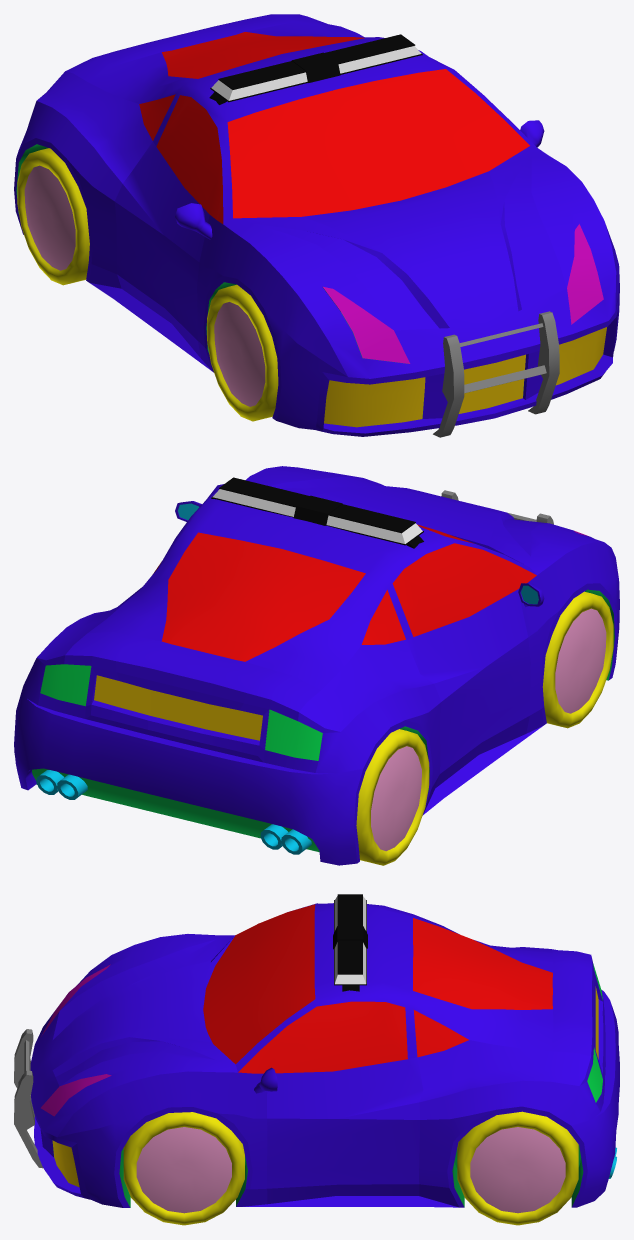
The model's file is 04_AzureusCrimsonPolice_ColorCoded.fbx.
The picture shows the model from 3 angles, top to bottom: view 1: azimuth 30°, elevation 25°; view 2: azimuth 150°, elevation 25°; view 3: azimuth 270°, elevation 25°; orthographic projection. The views are drawn at different scales.
Parts seen in each view (by area): view 1: Body, tireBackR, tireFrontR, police_light, police_ram; view 2: Body, tireBackR, tireFrontR, police_light; view 3: Body, tireBackL, tireFrontL, police_light, police_ram.
Part boxes in pixels (x1=…): Body: x1=14, y1=14, x2=619, y2=436; tireBackR: x1=17, y1=148, x2=89, y2=285; tireFrontR: x1=207, y1=284, x2=278, y2=421; police_light: x1=209, y1=34, x2=422, y2=104; police_ram: x1=433, y1=311, x2=559, y2=437; Body: x1=14, y1=466, x2=619, y2=865; tireBackR: x1=356, y1=729, x2=429, y2=865; tireFrontR: x1=542, y1=591, x2=613, y2=728; police_light: x1=211, y1=477, x2=423, y2=548; Body: x1=30, y1=903, x2=619, y2=1207; tireBackL: x1=457, y1=1111, x2=578, y2=1225; tireFrontL: x1=123, y1=1112, x2=244, y2=1225; police_light: x1=333, y1=894, x2=367, y2=991; police_ram: x1=14, y1=1029, x2=43, y2=1168.
Bounding box in the file's own units: 69.57 × 112 × 44.7.
